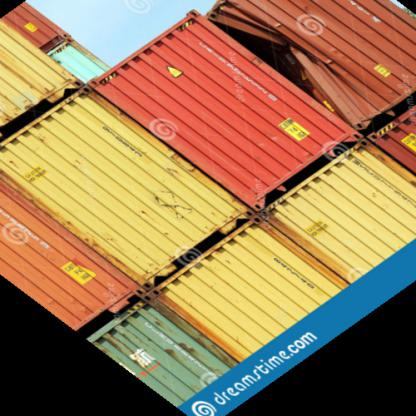Damage: (200, 3, 351, 114), (147, 178, 199, 224)
